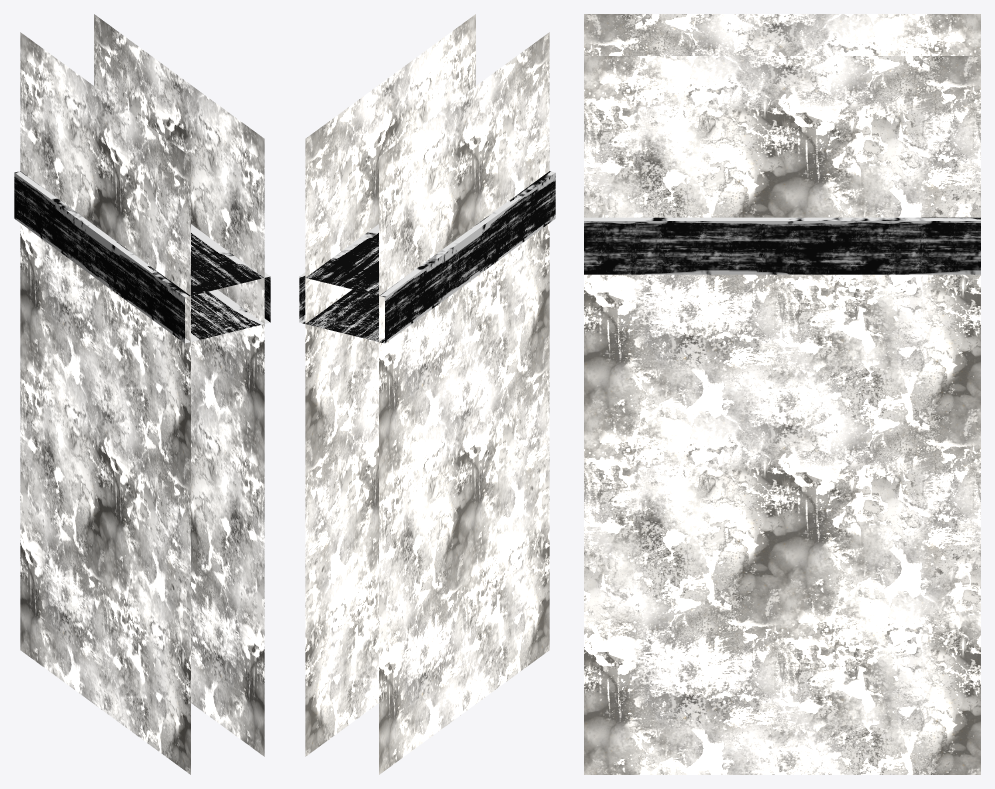
The model's file is SM_wall_A_2x4_01_02.fbx.
3 views of the same model, side by side, from view 1: azimuth 30°, elevation 25°; view 2: azimuth 150°, elevation 25°; view 3: azimuth 270°, elevation 25° (orthographic). The views are drawn at different scales.
Visible parts, largest first — view 1: SM_wall_A_2x4_01_02_LOD0; view 2: SM_wall_A_2x4_01_02_LOD0; view 3: SM_wall_A_2x4_01_02_LOD0.
Part boxes in pixels (<box>): SM_wall_A_2x4_01_02_LOD0: <box>14,14,270,774</box>; SM_wall_A_2x4_01_02_LOD0: <box>299,14,555,774</box>; SM_wall_A_2x4_01_02_LOD0: <box>584,14,980,774</box>.
Size of the model in its own units: 58 by 200 by 400.
Materials: 3 (3 with a texture image).
